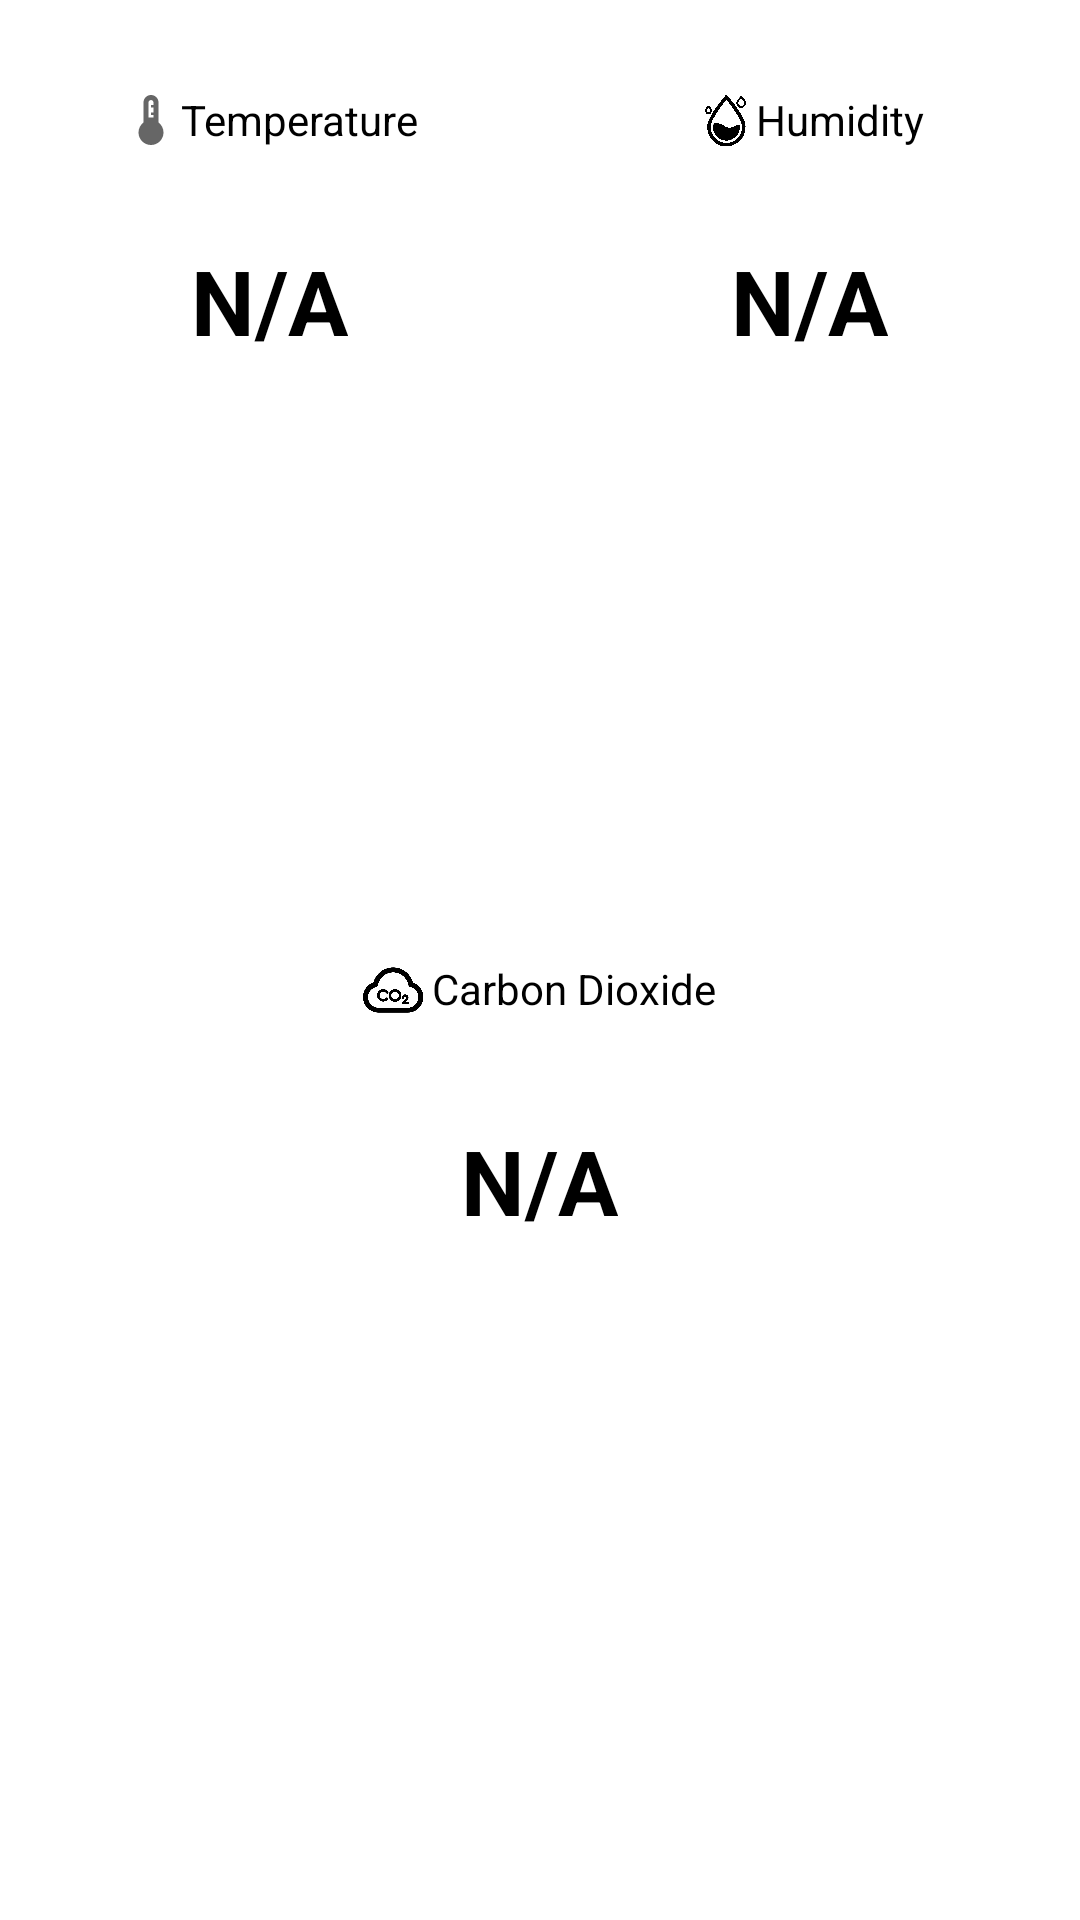

Icon bounding boxes for this 1080×1920 phone screenshot, format bbox=(x1, y1, x2, y2):
drop: bbox=(705, 95, 746, 146)
thermostat: bbox=(138, 95, 164, 145)
